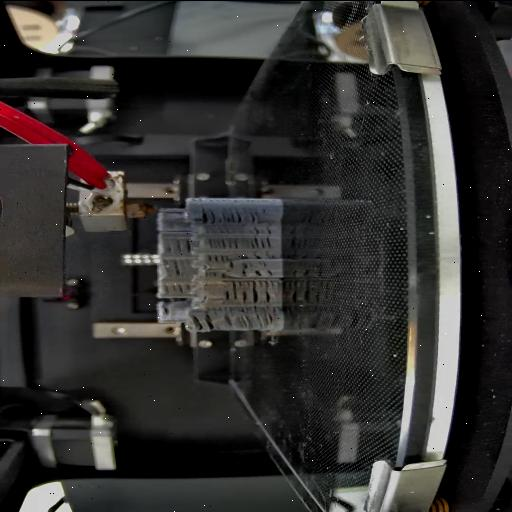cracks: (224, 306, 276, 330), (202, 206, 262, 222), (238, 279, 276, 303), (250, 224, 274, 248), (192, 310, 216, 330), (167, 236, 191, 254), (204, 237, 240, 248), (220, 280, 239, 299), (169, 257, 183, 277), (239, 250, 273, 258), (166, 282, 192, 292), (202, 252, 228, 261), (202, 270, 226, 278), (238, 260, 250, 275), (254, 268, 276, 275), (226, 260, 236, 268)
